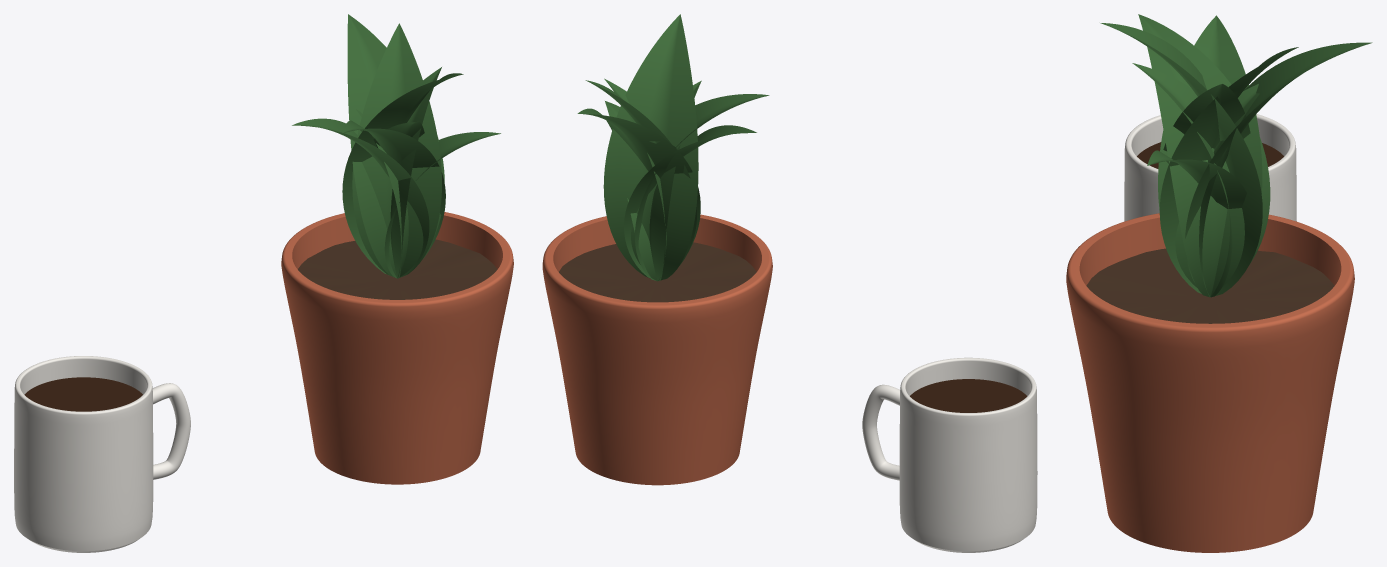
File: desk-set.glb
The picture shows the model from 3 angles, left to right: view 1: azimuth 30°, elevation 25°; view 2: azimuth 150°, elevation 25°; view 3: azimuth 270°, elevation 25°; orthographic projection. The views are drawn at different scales.
Visible parts, largest first — view 1: pot, cup, leaf (×8), soil, coffee, handle; view 2: pot, cup, leaf (×7), soil, coffee, handle; view 3: pot, leaf (×9), soil, cup, coffee.
Part boxes in pixels (bbox=[...]): pot: bbox=[281, 212, 513, 484]; cup: bbox=[14, 356, 153, 552]; leaf (×8): bbox=[292, 14, 500, 278]; soil: bbox=[298, 239, 497, 299]; coffee: bbox=[24, 377, 142, 411]; handle: bbox=[152, 383, 190, 479]; pot: bbox=[542, 214, 772, 485]; cup: bbox=[899, 357, 1037, 552]; leaf (×7): bbox=[577, 14, 769, 280]; soil: bbox=[559, 242, 756, 302]; coffee: bbox=[910, 379, 1027, 412]; handle: bbox=[862, 384, 899, 480]; pot: bbox=[1066, 213, 1354, 552]; leaf (×9): bbox=[1100, 14, 1372, 297]; soil: bbox=[1086, 248, 1334, 323]; cup: bbox=[1124, 114, 1296, 221]; coffee: bbox=[1137, 142, 1283, 168].
Size of the model in its own units: 0.3329 by 0.2697 by 0.15.
